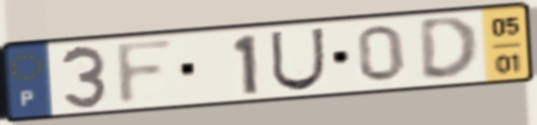0: (354, 22, 411, 85)
1: (230, 31, 261, 98)
3: (58, 42, 109, 111)
D: (415, 14, 482, 83)
F: (113, 35, 180, 109)
U: (267, 26, 328, 94)
